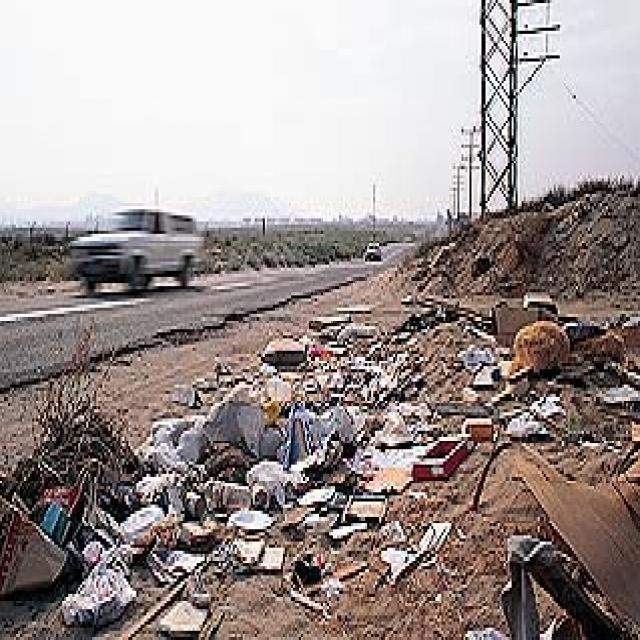plastic: (62, 308, 460, 634)
